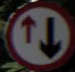Two way: (3, 1, 67, 64)
